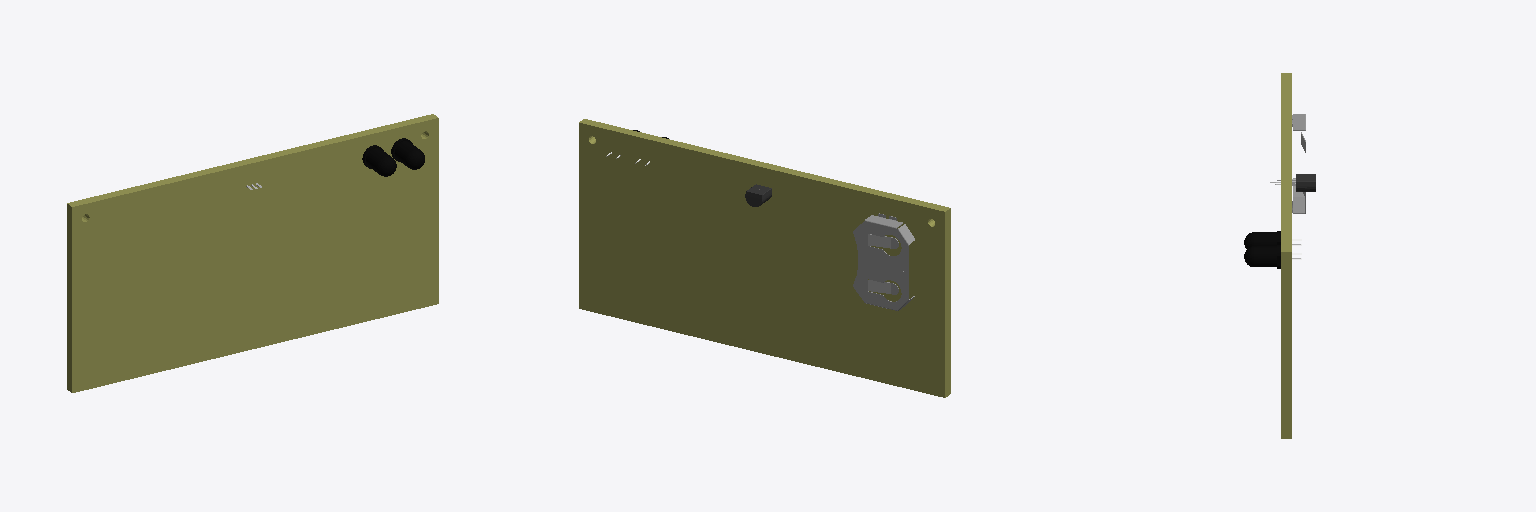
File: OBJ_BoardThatsCool.obj
3 renders of one model, left to right at view 1: azimuth 30°, elevation 25°; view 2: azimuth 150°, elevation 25°; view 3: azimuth 270°, elevation 25°, orthographic.
Size of the model in its own units: 389 by 189 by 65.91.